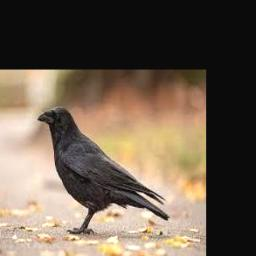Crow: (37, 106, 170, 235)
